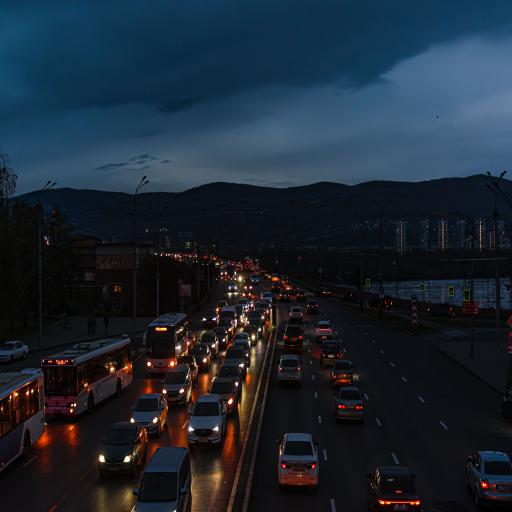car: (133, 447, 191, 511), (99, 422, 147, 477), (467, 452, 511, 508), (277, 434, 319, 490), (367, 467, 420, 511), (188, 395, 226, 448), (131, 394, 167, 435), (162, 363, 193, 406), (208, 378, 238, 415), (335, 387, 363, 422), (216, 363, 242, 399), (277, 355, 302, 387), (223, 347, 246, 374), (0, 341, 28, 363), (331, 360, 353, 388), (180, 355, 198, 387), (283, 325, 303, 353), (192, 343, 211, 370), (321, 340, 340, 366), (233, 339, 250, 367), (201, 332, 218, 358), (244, 318, 262, 342), (221, 306, 237, 331), (219, 318, 235, 342), (315, 321, 332, 342), (428, 304, 455, 317), (213, 327, 228, 346), (246, 309, 264, 324), (203, 310, 218, 328), (234, 333, 251, 348), (502, 390, 511, 417), (255, 303, 266, 323), (255, 302, 266, 321), (290, 307, 303, 323), (341, 291, 357, 303), (242, 278, 252, 297), (235, 305, 245, 324), (260, 301, 270, 319), (238, 298, 249, 313), (188, 331, 195, 353), (314, 287, 330, 296), (216, 301, 227, 314), (307, 300, 318, 313), (369, 295, 380, 308), (227, 265, 236, 280), (261, 290, 272, 301), (280, 290, 289, 302), (290, 285, 298, 297), (272, 282, 280, 293), (220, 268, 228, 279), (297, 290, 305, 301), (229, 281, 237, 292), (280, 275, 288, 285), (251, 274, 258, 285), (284, 282, 292, 291), (272, 274, 279, 283)
